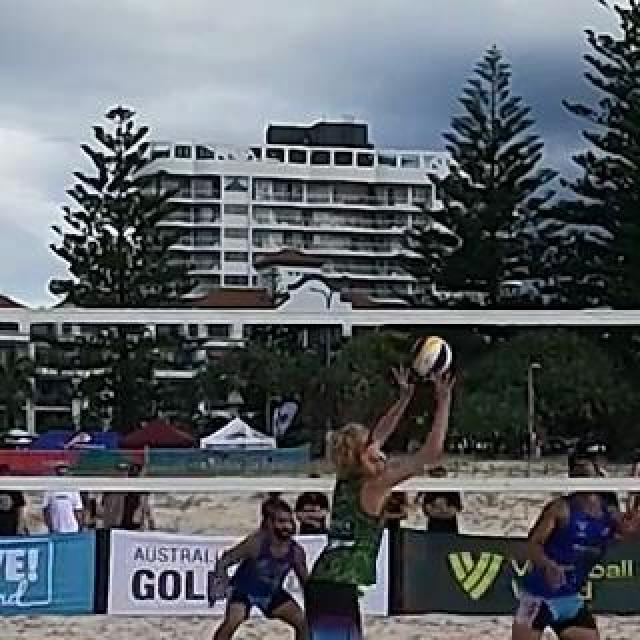volleyball: (414, 336, 452, 376)
